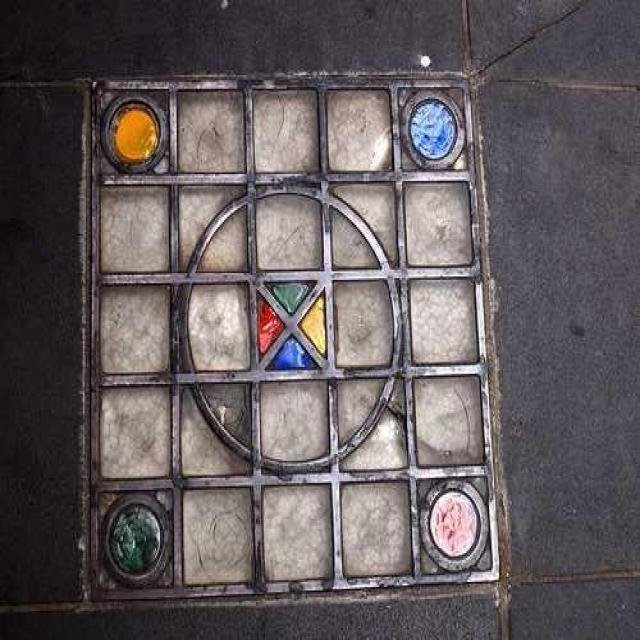manhole: (90, 75, 498, 598)
